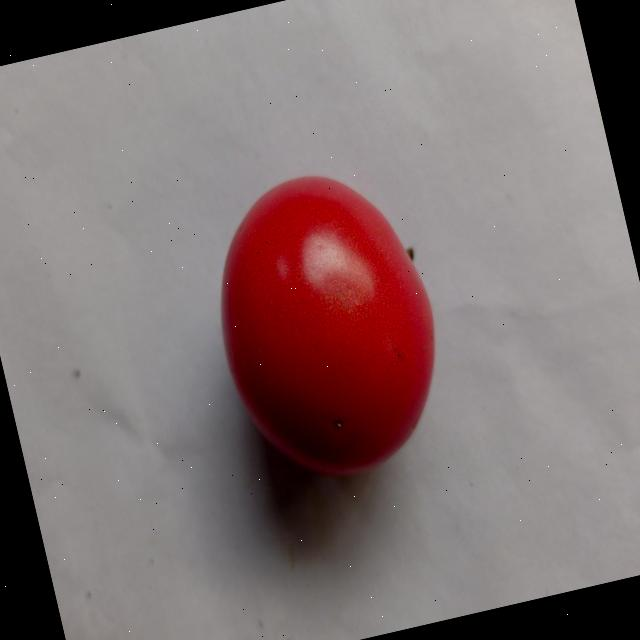Tomato: (185, 148, 469, 501)
